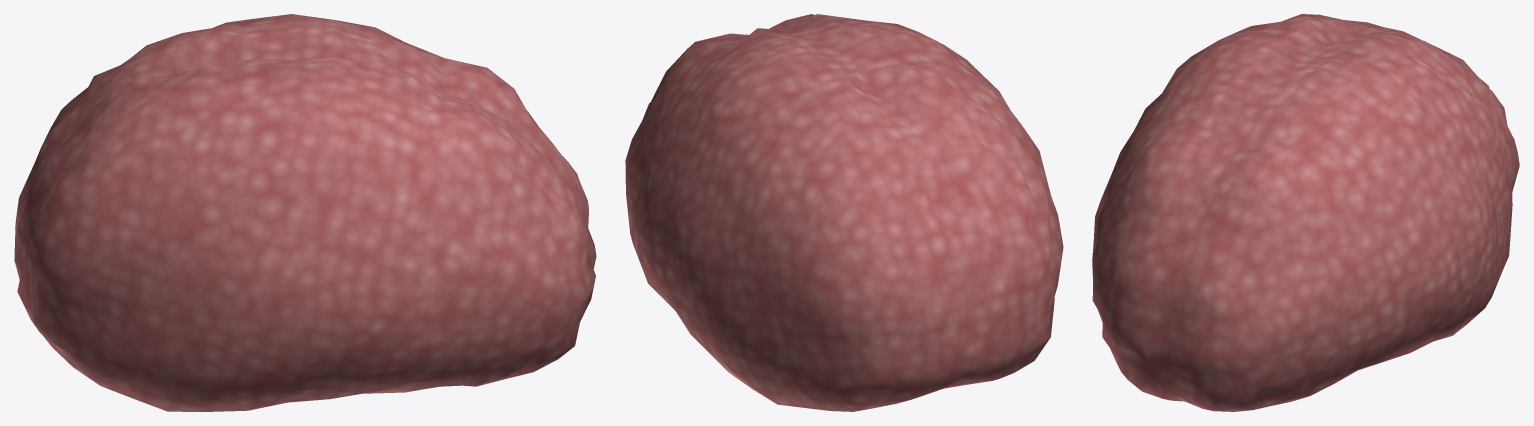
File: Brain8.fbx
3 renders of one model, left to right at view 1: azimuth 30°, elevation 25°; view 2: azimuth 150°, elevation 25°; view 3: azimuth 270°, elevation 25°, orthographic. The views are drawn at different scales.
Parts seen in each view (by area): view 1: brain-low; view 2: brain-low; view 3: brain-low.
Boxes of the visible parts, bbox=[...] form: brain-low: bbox=[14, 14, 596, 411]; brain-low: bbox=[625, 14, 1063, 411]; brain-low: bbox=[1092, 14, 1519, 411].
Bounding box in the file's own units: 330 × 200 × 276.
